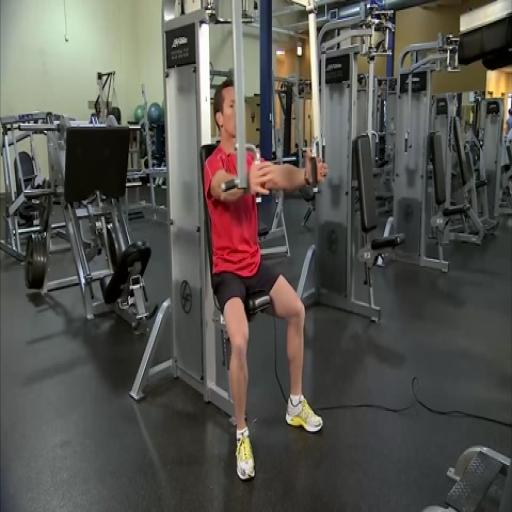exercise: (200, 76, 330, 484)
